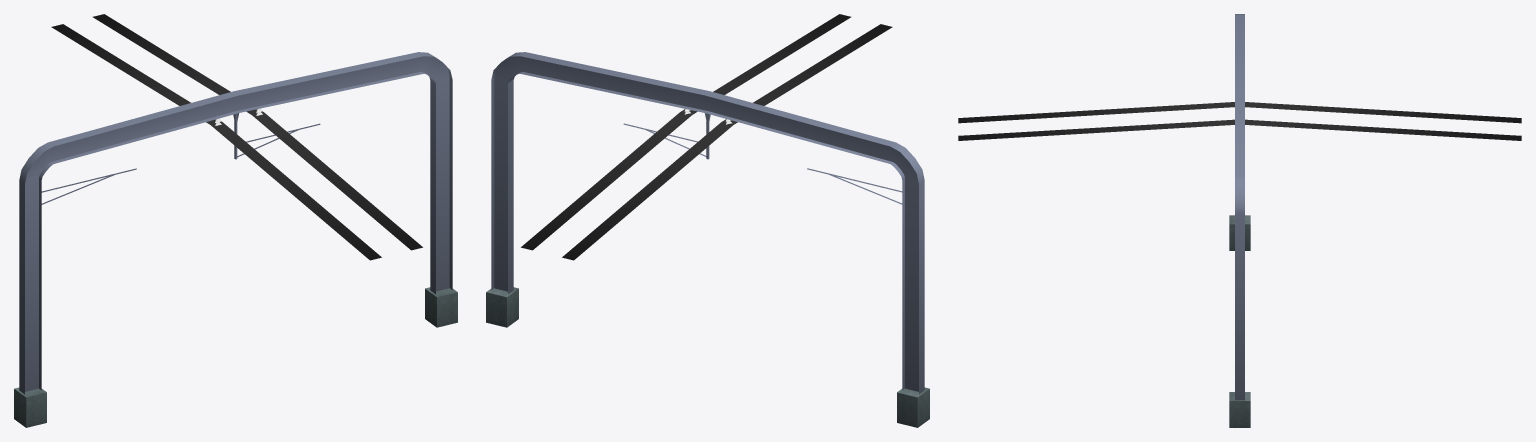
File: KASENCHU_TAKARADUKA.glb
3 views of the same model, side by side, from view 1: azimuth 30°, elevation 25°; view 2: azimuth 150°, elevation 25°; view 3: azimuth 270°, elevation 25° (orthographic). The views are drawn at different scales.
Parts seen in each view (by area): view 1: FRAME_ROOT; view 2: FRAME_ROOT; view 3: FRAME_ROOT.
Part boxes in pixels (box(x1,y1,x2,y2)): FRAME_ROOT: box(14, 14, 457, 427); FRAME_ROOT: box(486, 14, 929, 427); FRAME_ROOT: box(958, 14, 1521, 427).
Bounding box in the file's own units: 30.94 × 19 × 39.61.
Materials: 4 (3 with a texture image).
